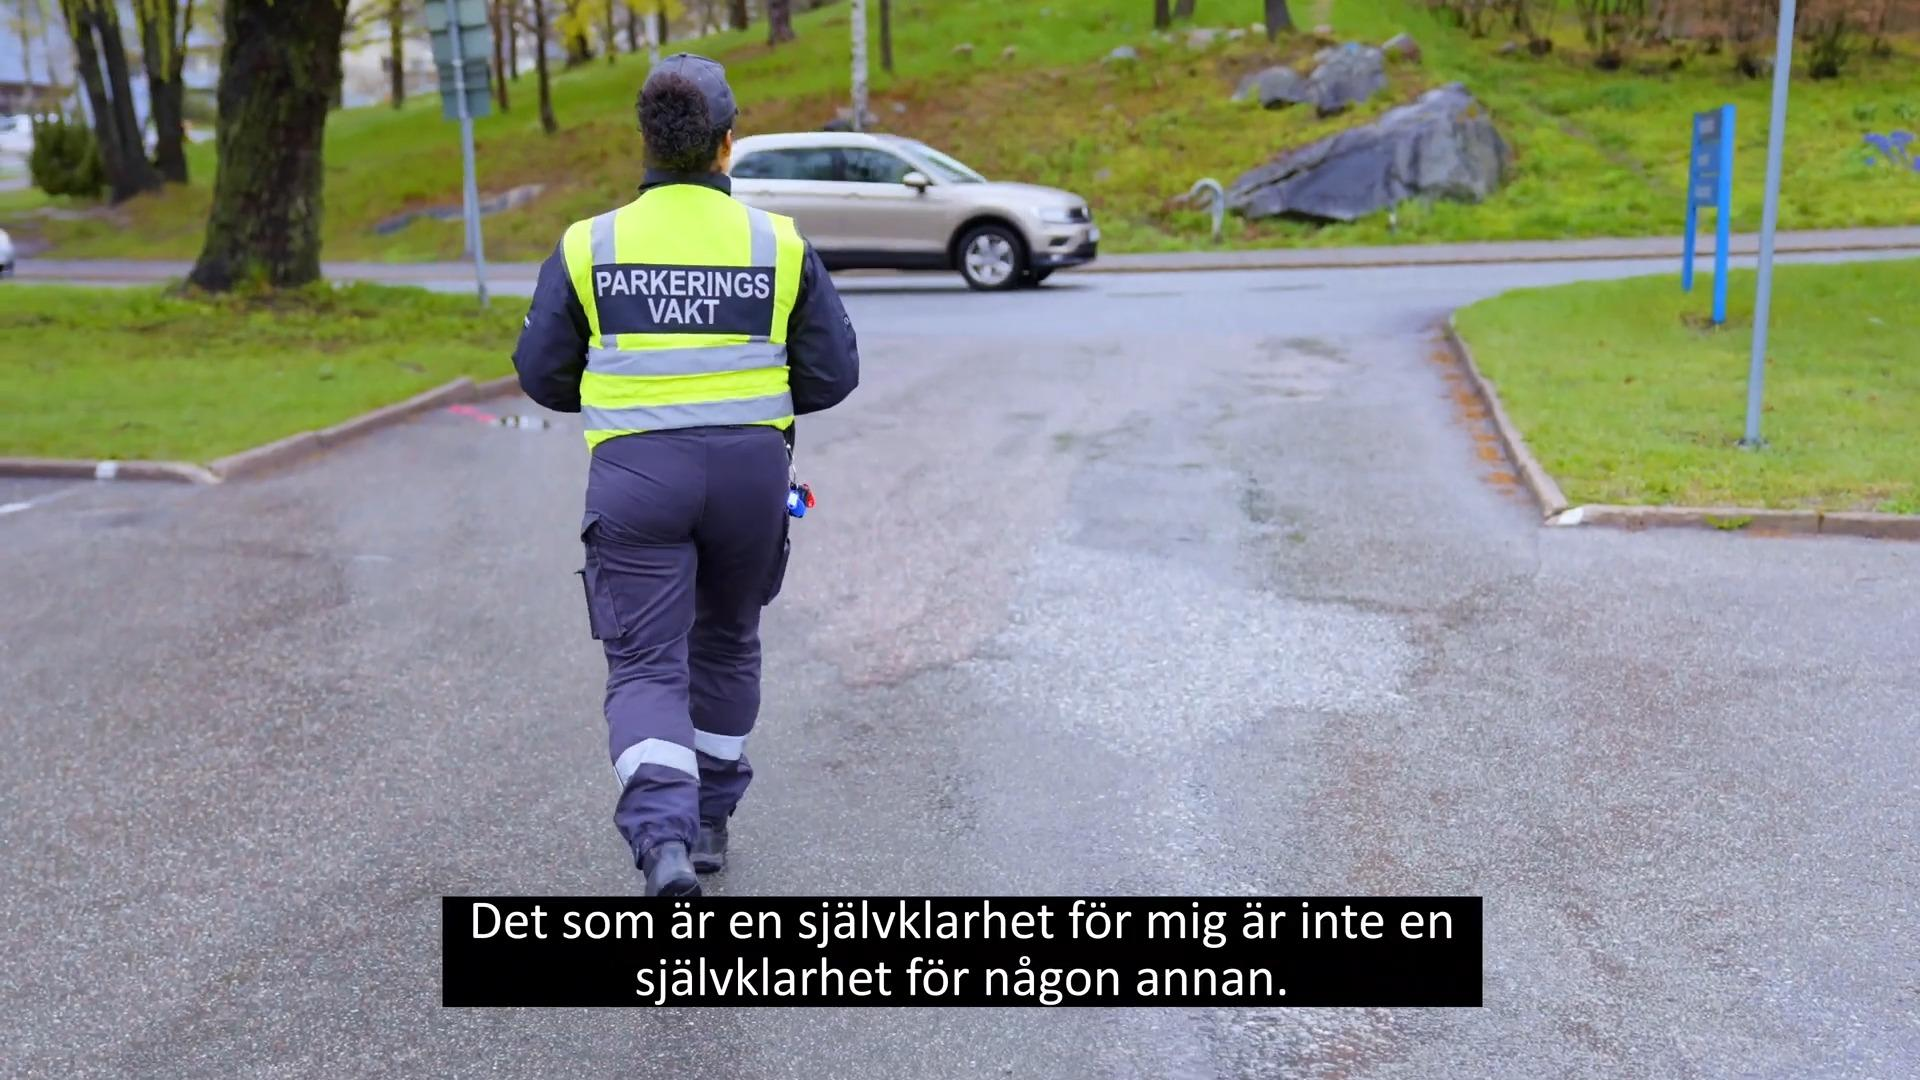parking-attendant: (513, 53, 858, 895)
